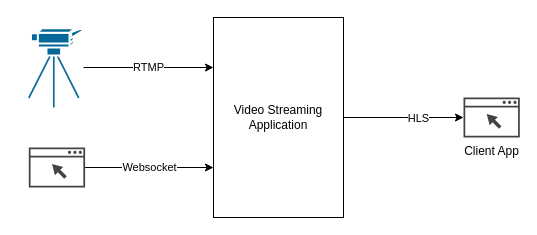
Some shapes in this 537 by 235 pixel diagram are drawn without their labels. The shapes that lost their labels are listed below. From the top down, each one's centre as x and y in pixels, then its label:
At (55,67): "Camera / OBS".
At (56,167): "Web Browser".
